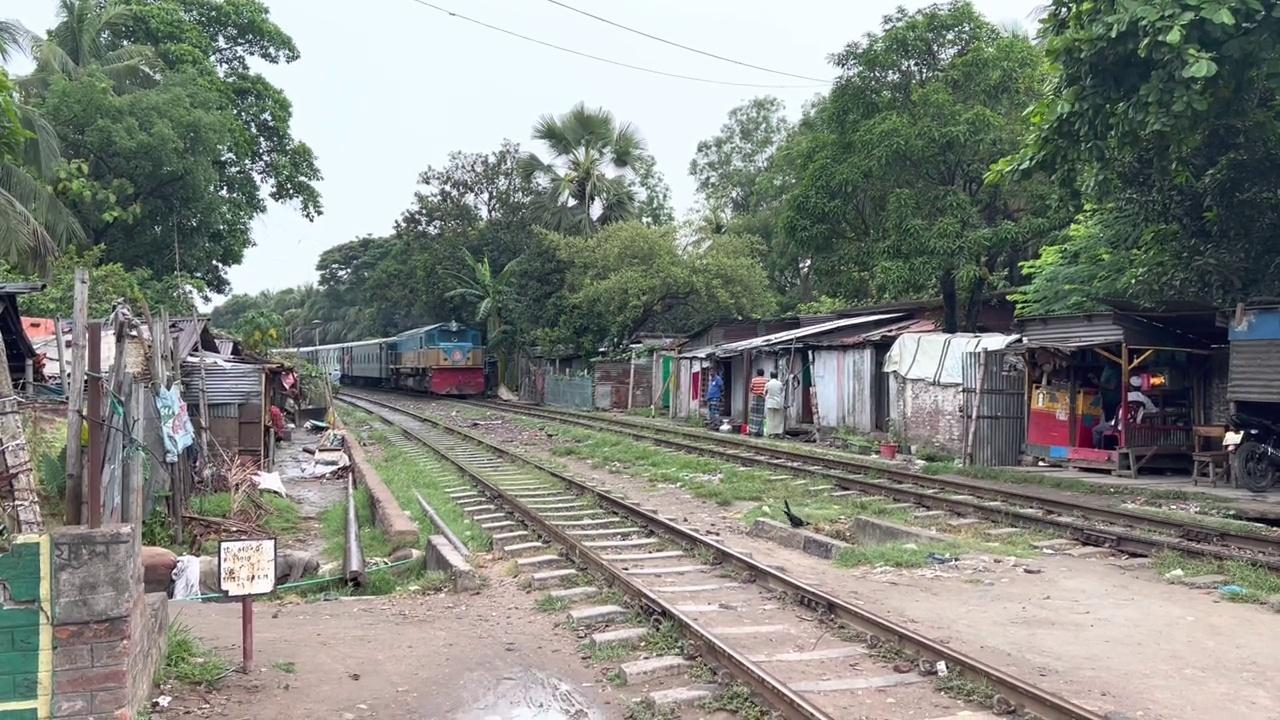Curb: (1223, 410, 1279, 492)
Fence: (762, 370, 785, 438), (748, 368, 768, 436), (704, 368, 724, 428)
Motorcycle: (388, 422, 1106, 720)
Pothole: (217, 537, 276, 597)
Potted-plant: (290, 312, 542, 404)
Railroad-crossing: (766, 0, 1077, 333), (2, 0, 324, 321), (515, 100, 649, 236)
